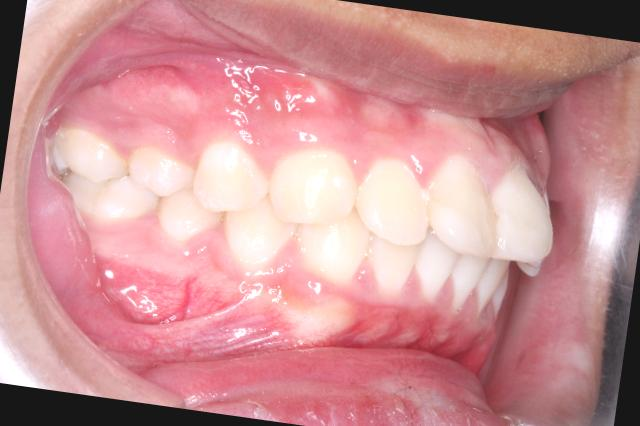canine class II 1/4: (215, 131, 387, 294)
molar class III 1/4: (37, 117, 167, 236)
